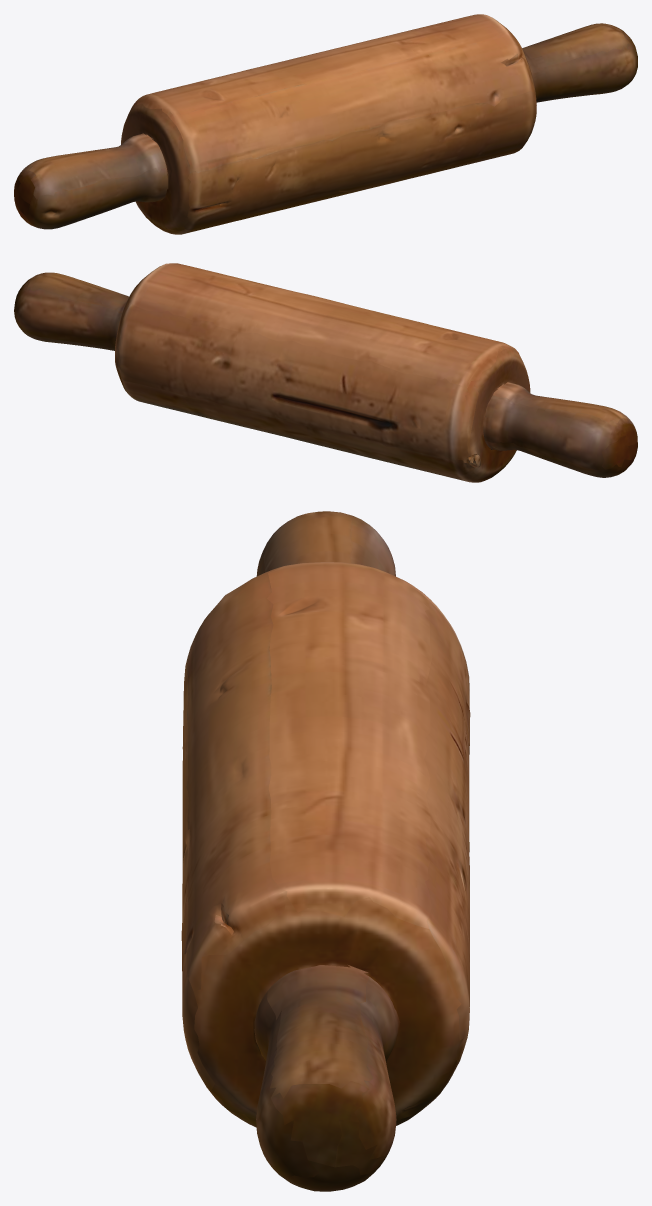
File: naiwa_rollingpin.glb
The picture shows the model from 3 angles, top to bottom: view 1: azimuth 30°, elevation 25°; view 2: azimuth 150°, elevation 25°; view 3: azimuth 270°, elevation 25°; orthographic projection. The views are drawn at different scales.
Parts seen in each view (by area): view 1: geometry_0; view 2: geometry_0; view 3: geometry_0.
Boxes of the visible parts, left/top/right/bottom form: geometry_0: left=14, top=14, right=637, bottom=234; geometry_0: left=14, top=263, right=637, bottom=482; geometry_0: left=181, top=511, right=470, bottom=1191.
Bounding box in the file's own units: 0.45 × 0.0897 × 0.0923.
1 material, 1 textured.
